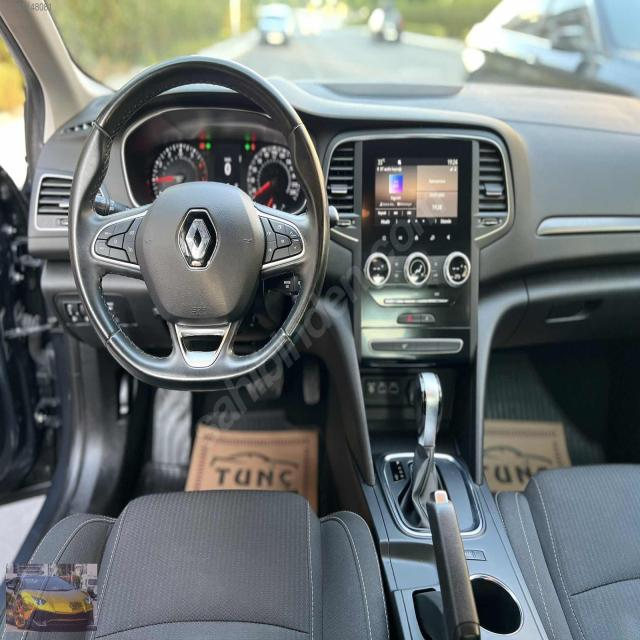renault: (184, 218, 211, 260)
